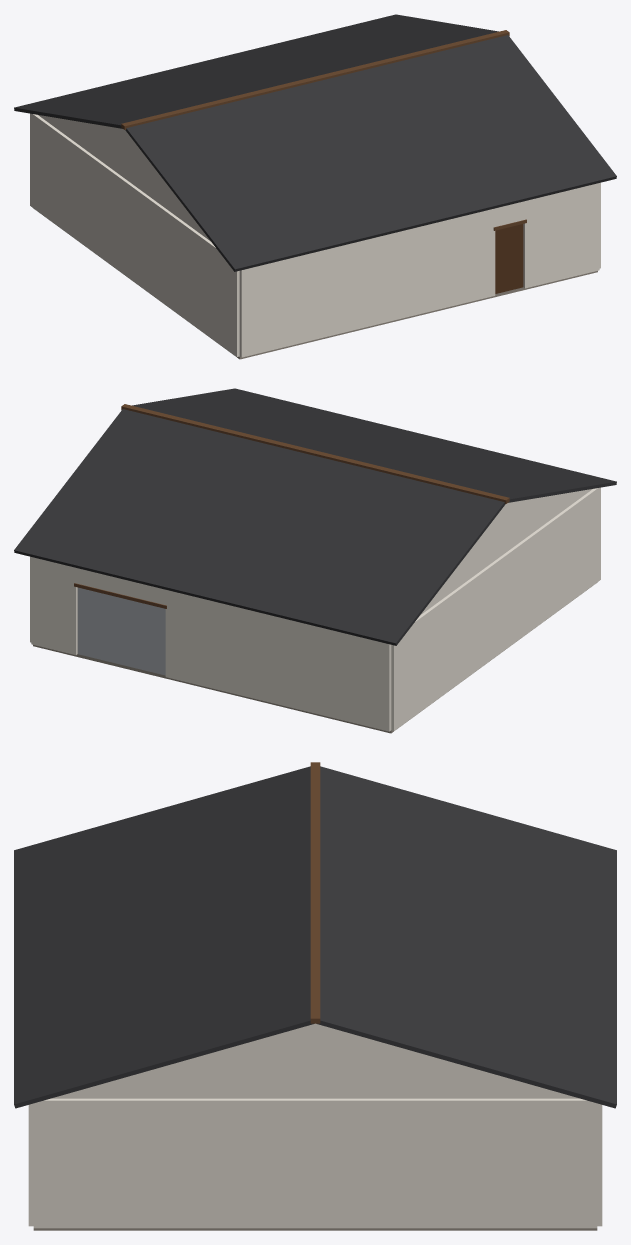
File: home-energy-debugger-house.glb
The picture shows the model from 3 angles, top to bottom: view 1: azimuth 30°, elevation 25°; view 2: azimuth 150°, elevation 25°; view 3: azimuth 270°, elevation 25°; orthographic projection. The views are drawn at different scales.
Parts seen in each view (by area): view 1: Roof_Panel_North, Roof_Panel_South, Wall_Kitchen_North_0, Wall_Kitchen_West_0, Wall_Laundry_West_0, Wall_Living_North_2, Wall_Living_North_0, Gable_West, Roof_RidgeCap, Door_Front, Wall_Living_North_1; view 2: Roof_Panel_South, Roof_Panel_North, Wall_Laundry_South_0, Wall_Laundry_West_0, Wall_Kitchen_West_0, Door_GarageRoller, Gable_West, Wall_Garage_South_2, Wall_Garage_South_0, Roof_RidgeCap, Wall_Garage_South_1, Floor_Garage; view 3: Roof_Panel_South, Roof_Panel_North, Wall_Living_East_0, Wall_Garage_East_0, Gable_East, Roof_RidgeCap, Floor_Living, Floor_Garage, Wall_Living_North_2, Wall_Garage_South_2.
Boxes of the visible parts, x1,y1,x2,y2 form: Roof_Panel_North: (125, 35, 616, 271); Roof_Panel_South: (14, 14, 498, 128); Wall_Kitchen_North_0: (239, 226, 420, 357); Wall_Kitchen_West_0: (133, 187, 239, 356); Wall_Laundry_West_0: (30, 113, 135, 280); Wall_Living_North_2: (523, 183, 599, 288); Wall_Living_North_0: (420, 208, 495, 313); Gable_West: (38, 115, 210, 241); Roof_RidgeCap: (121, 30, 509, 129); Door_Front: (495, 224, 523, 293); Wall_Living_North_1: (495, 201, 524, 226); Roof_Panel_South: (14, 409, 505, 645); Roof_Panel_North: (132, 388, 616, 502); Wall_Laundry_South_0: (210, 600, 391, 731); Wall_Laundry_West_0: (391, 561, 497, 730); Wall_Kitchen_West_0: (495, 487, 600, 654); Door_GarageRoller: (77, 587, 165, 675); Gable_West: (420, 489, 592, 615); Wall_Garage_South_2: (31, 557, 77, 654); Wall_Garage_South_0: (165, 590, 210, 687); Roof_RidgeCap: (121, 404, 509, 503); Wall_Garage_South_1: (76, 568, 165, 604); Floor_Garage: (33, 645, 211, 689); Roof_Panel_South: (316, 766, 616, 1108); Roof_Panel_North: (14, 766, 314, 1108); Wall_Living_East_0: (33, 1098, 315, 1228); Wall_Garage_East_0: (315, 1098, 597, 1228); Gable_East: (51, 1023, 579, 1098); Roof_RidgeCap: (310, 762, 320, 1023); Floor_Living: (33, 1228, 315, 1230); Floor_Garage: (315, 1228, 597, 1230); Wall_Living_North_2: (28, 1103, 33, 1226); Wall_Garage_South_2: (597, 1103, 602, 1226).
Size of the model in its own units: 12.9 by 5.19 by 12.83.
